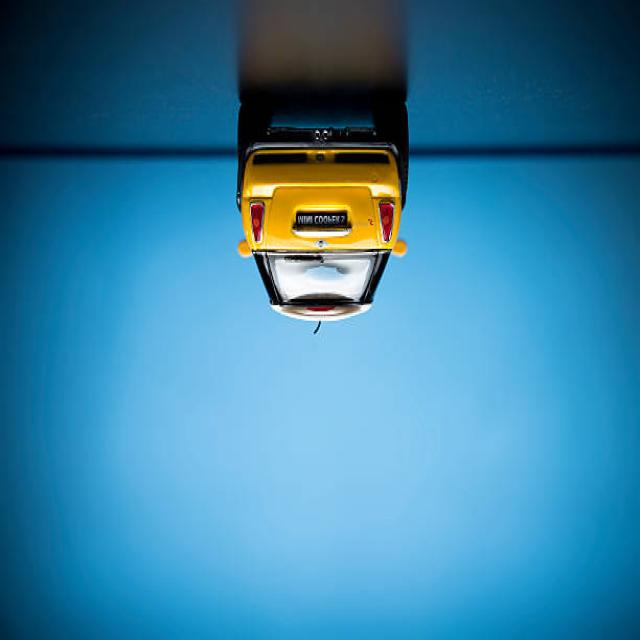Car: (235, 97, 409, 330)
